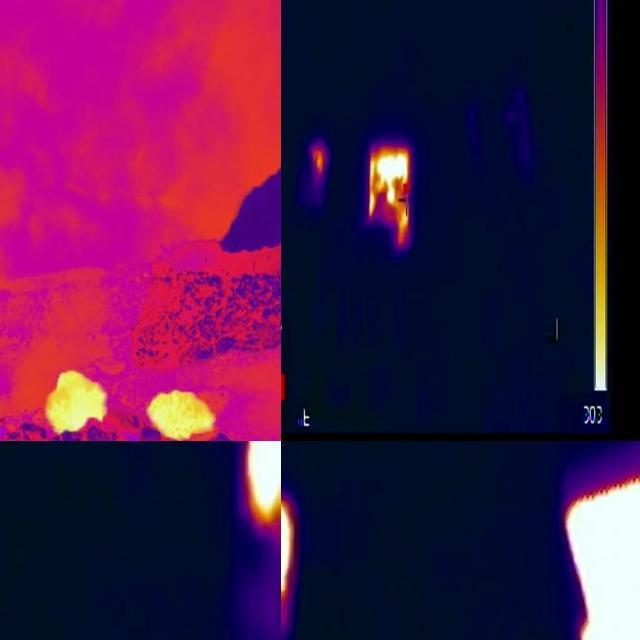fire: (563, 449, 640, 640), (245, 439, 303, 621), (45, 365, 113, 435), (368, 143, 412, 251), (146, 388, 221, 443), (310, 143, 328, 181)
